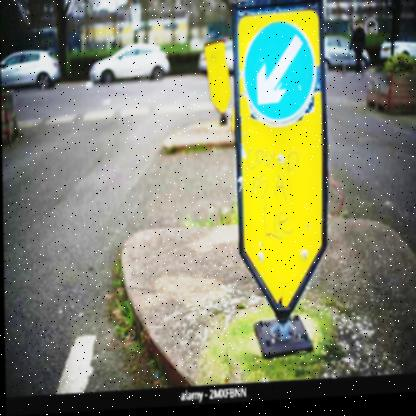Keep left: (241, 20, 324, 136)
